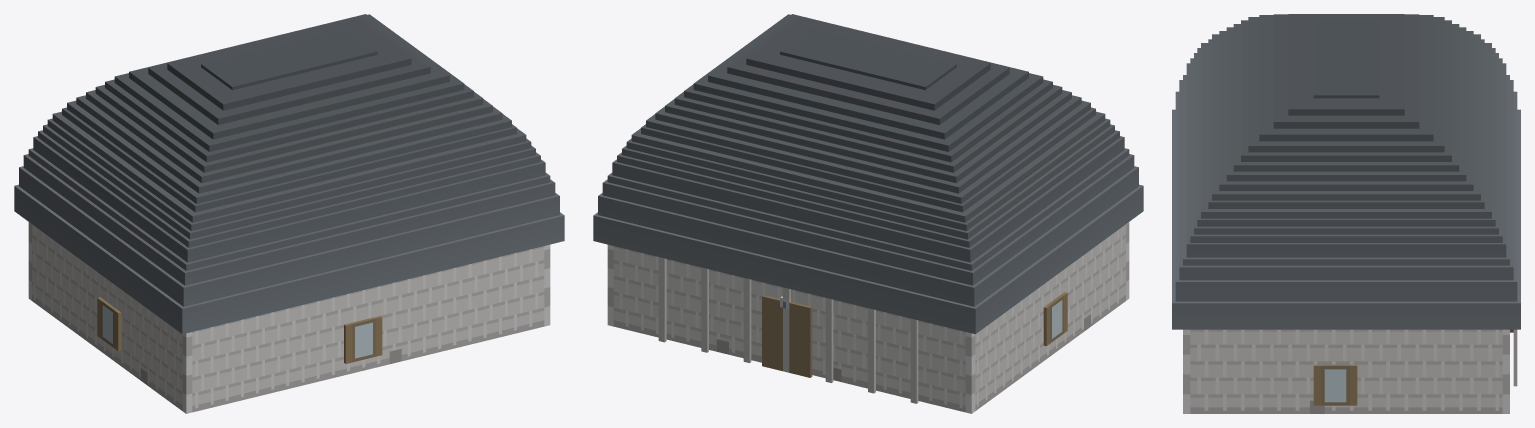
Rendered from casino_01.glb.
3 views of the same model, side by side, from view 1: azimuth 30°, elevation 25°; view 2: azimuth 150°, elevation 25°; view 3: azimuth 270°, elevation 25° (orthographic). The views are drawn at different scales.
Visible parts, largest first — view 1: casino_01; view 2: casino_01; view 3: casino_01.
Part boxes in pixels (left/top/right/bottom): casino_01: left=14, top=14, right=564, bottom=413; casino_01: left=593, top=14, right=1143, bottom=413; casino_01: left=1172, top=14, right=1520, bottom=413.
Size of the model in its own units: 12.6 by 8 by 9.6.
